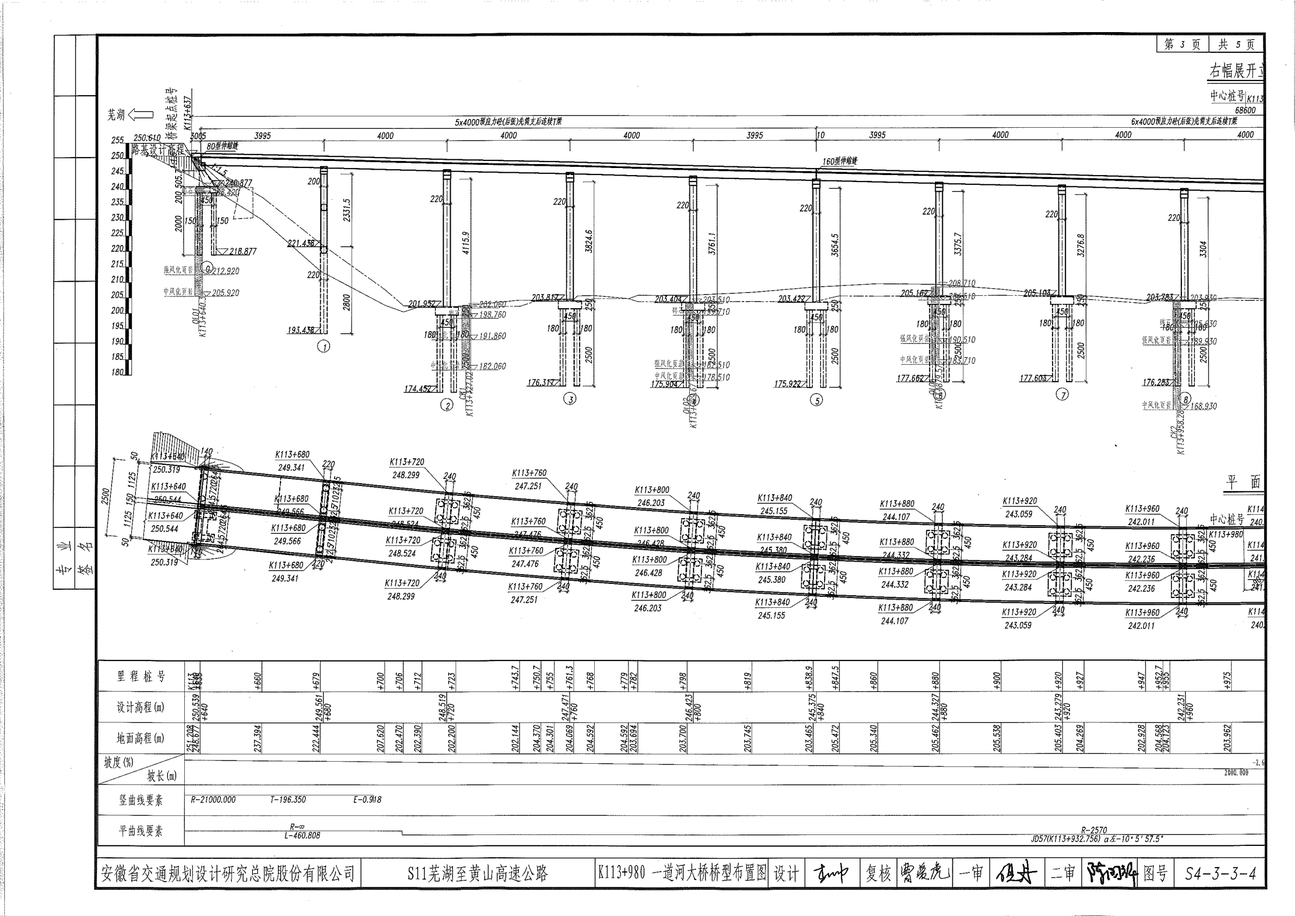A: (101, 59, 1275, 423)
